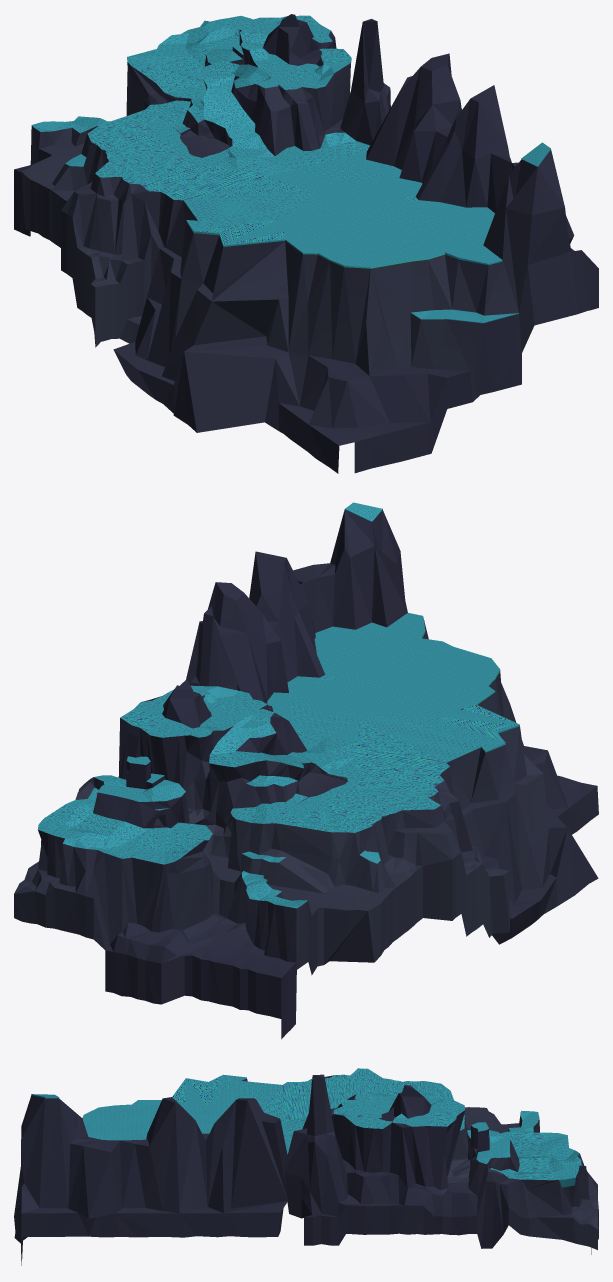
The model's file is Terrain_GroundTest.fbx.
The picture shows the model from 3 angles, top to bottom: view 1: azimuth 30°, elevation 25°; view 2: azimuth 150°, elevation 25°; view 3: azimuth 270°, elevation 25°; orthographic projection. The views are drawn at different scales.
Visible parts, largest first — view 1: Mountains; view 2: Mountains; view 3: Mountains.
Boxes of the visible parts, box(x1,y1,x2,y2) form: Mountains: box(14, 14, 598, 473); Mountains: box(14, 502, 598, 1039); Mountains: box(14, 1068, 598, 1265).
Size of the model in its own units: 13277 by 10102 by 22176.
